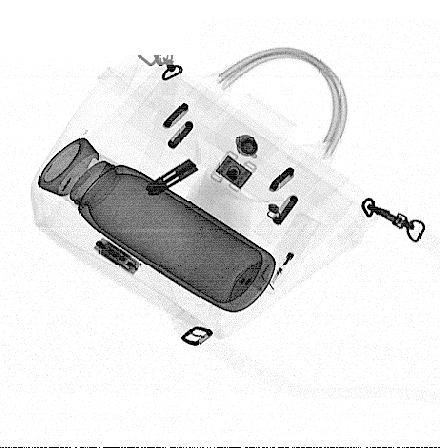Lighter: (248, 213, 320, 296)
